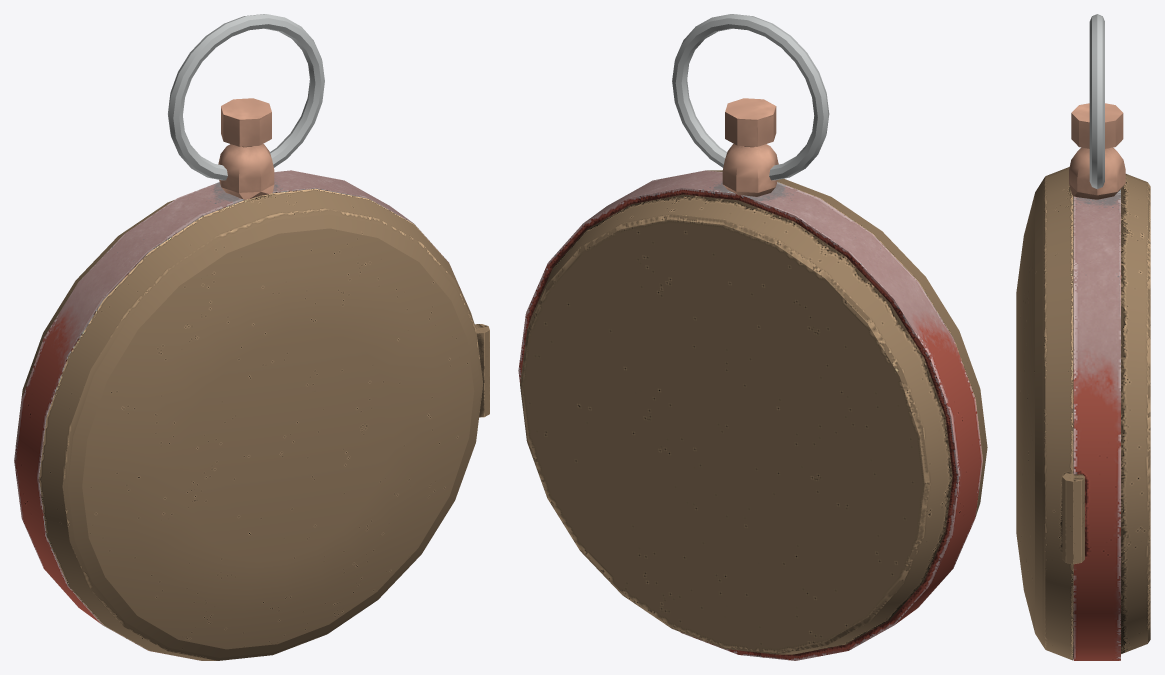
File: compass.gltf
3 renders of one model, left to right at view 1: azimuth 30°, elevation 25°; view 2: azimuth 150°, elevation 25°; view 3: azimuth 270°, elevation 25°, orthographic. The views are drawn at different scales.
Parts seen in each view (by area): view 1: cup, main; view 2: main, cup; view 3: main, cup.
Part boxes in pixels (box(x1,y1,x2,y2)): cup: box(39, 188, 489, 660); main: box(14, 14, 470, 660); main: box(518, 14, 982, 660); cup: box(707, 170, 987, 516); main: box(1069, 14, 1150, 660); cup: box(1016, 167, 1084, 660).
Bounding box in the file's own units: 8.41 × 11.24 × 2.22.
3 materials, 3 textured.
